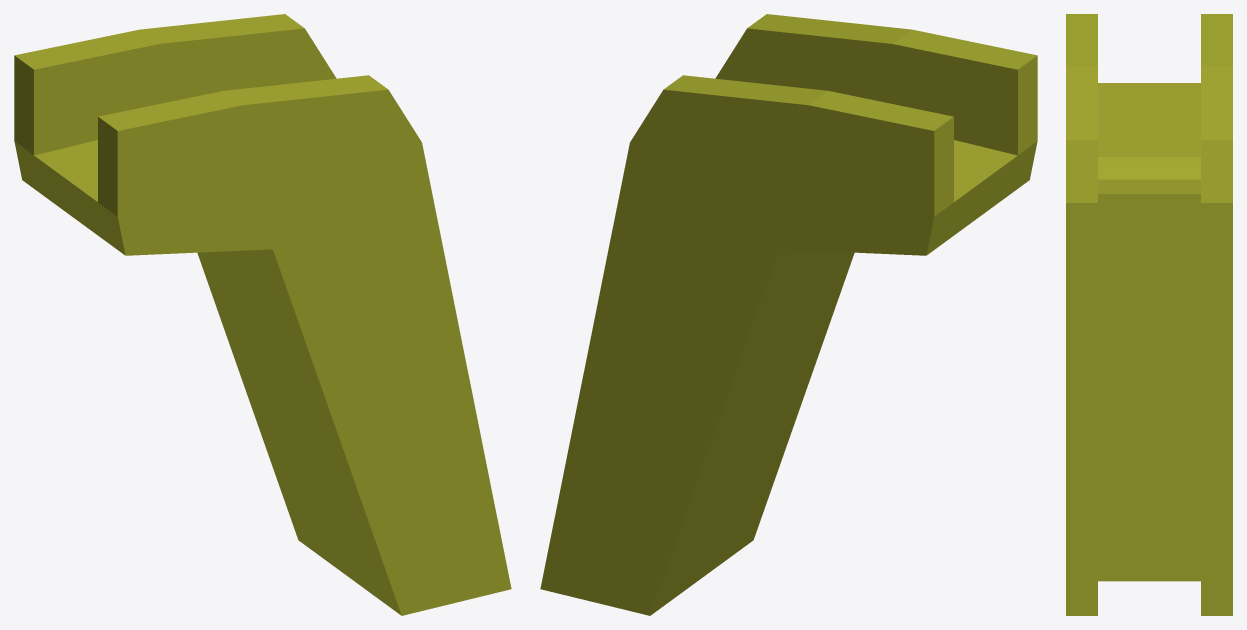
File: elevator.fbx
The picture shows the model from 3 angles, left to right: view 1: azimuth 30°, elevation 25°; view 2: azimuth 150°, elevation 25°; view 3: azimuth 270°, elevation 25°; orthographic projection. The views are drawn at different scales.
Visible parts, largest first — view 1: Cube; view 2: Cube; view 3: Cube.
Part boxes in pixels (x1=…): Cube: x1=14, y1=14, x2=511, y2=615; Cube: x1=540, y1=14, x2=1037, y2=615; Cube: x1=1066, y1=14, x2=1232, y2=615.
Bounding box in the file's own units: 440 × 591 × 200.
